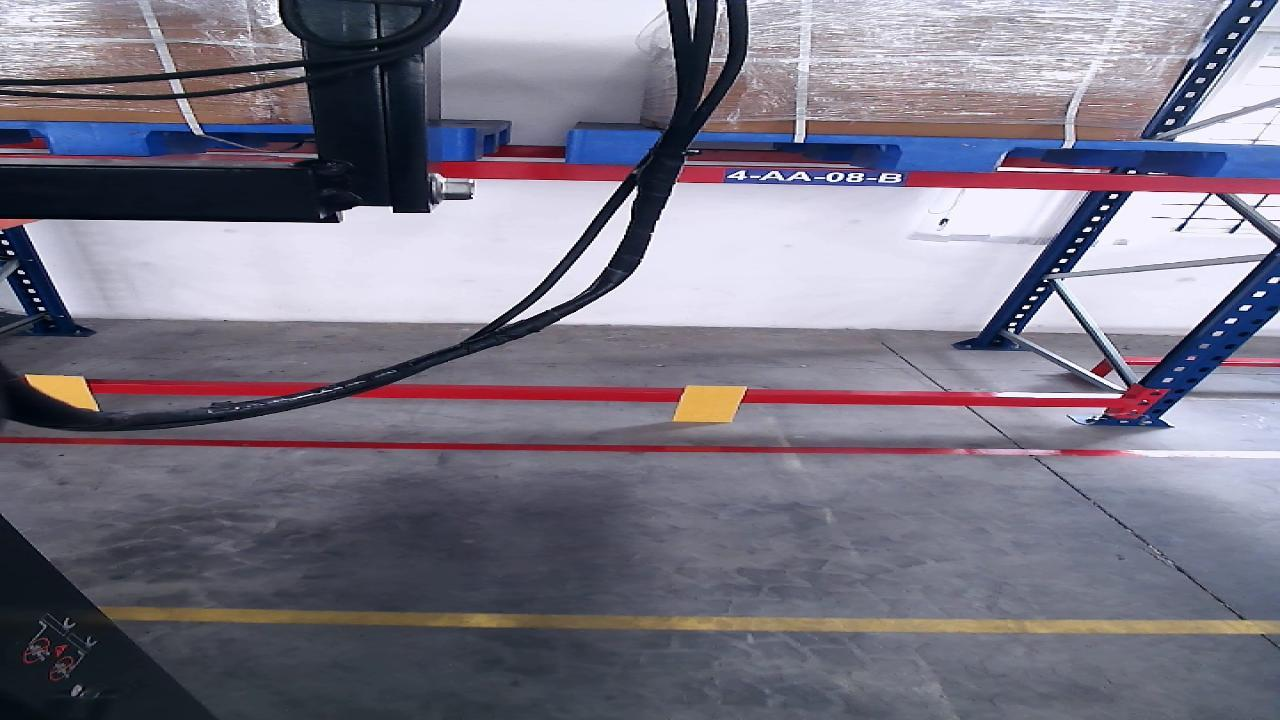h_rack: (438, 163, 1277, 194), (92, 385, 1125, 407)
orange_strip: (674, 384, 748, 421)
red_line: (4, 436, 1222, 457)
small_pallet: (565, 130, 1280, 177), (0, 121, 472, 159)
yellow_line: (94, 600, 1279, 633)
